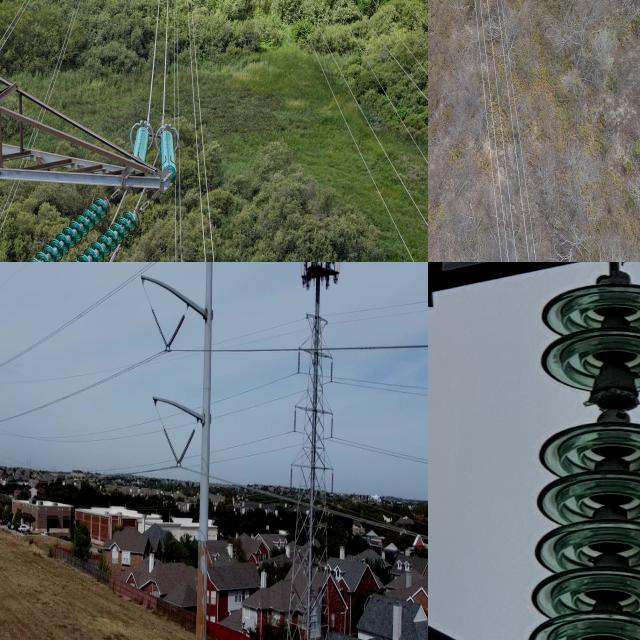杆塔: (269, 295, 351, 640), (428, 0, 518, 262)
正常绝缘子: (502, 262, 640, 640), (13, 179, 150, 262), (157, 123, 178, 183), (149, 304, 171, 352), (162, 313, 188, 352), (162, 425, 184, 469), (174, 428, 196, 469), (284, 459, 300, 507), (132, 123, 150, 163), (323, 470, 339, 515), (326, 410, 342, 448), (292, 346, 307, 382), (289, 402, 300, 440), (326, 354, 336, 390)
绝缘子破损: (580, 382, 640, 417)
